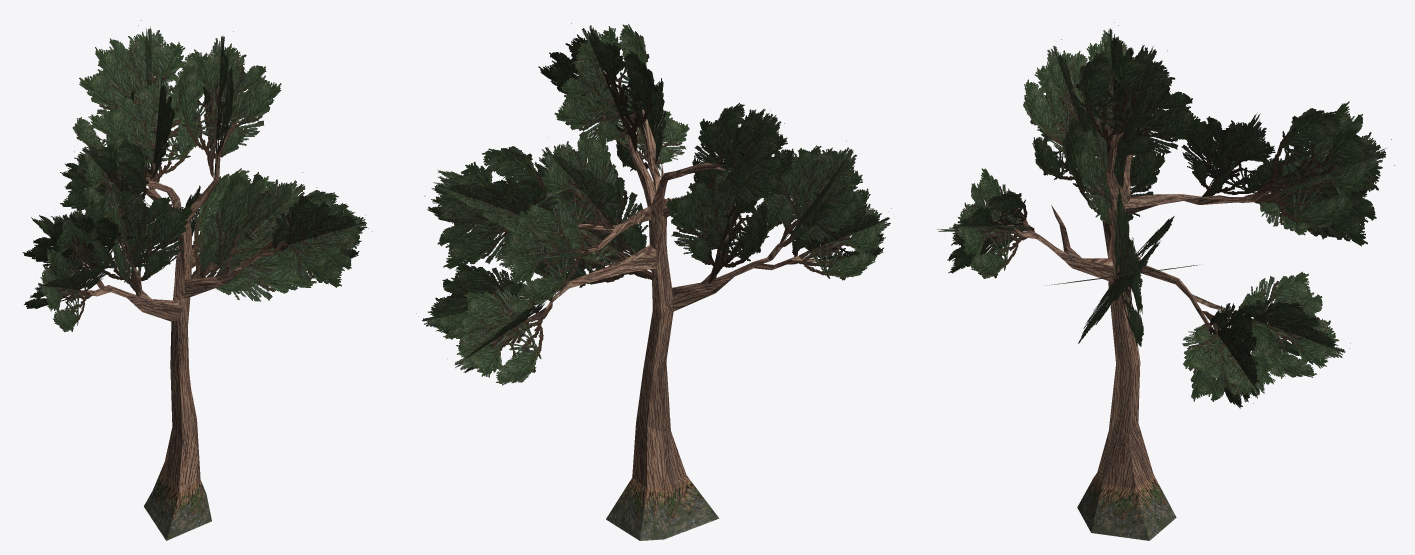
File: C1SNSCTPN.obj
3 views of the same model, side by side, from view 1: azimuth 30°, elevation 25°; view 2: azimuth 150°, elevation 25°; view 3: azimuth 270°, elevation 25° (orthographic). The views are drawn at different scales.
Parts seen in each view (by area): view 1: Node 0; view 2: Node 0; view 3: Node 0.
Boxes of the visible parts, <box> form: Node 0: <box>22,20,372,540</box>; Node 0: <box>416,23,891,540</box>; Node 0: <box>937,22,1394,540</box>.
Size of the model in its own units: 21.83 by 27.62 by 22.48.
Materials: 3 (3 with a texture image).
